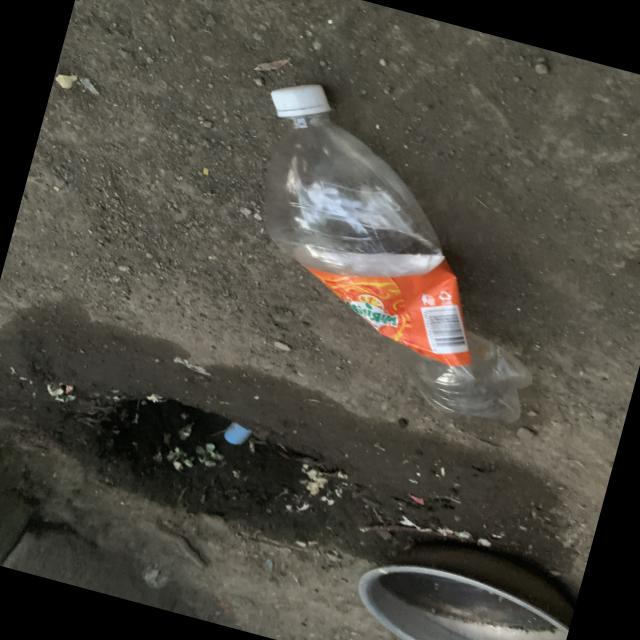Bottle: (265, 84, 531, 421)
